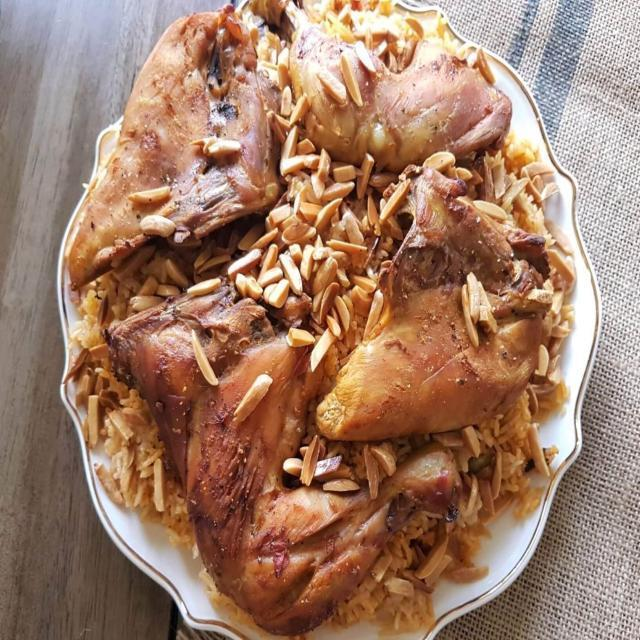kabsa: (97, 2, 546, 621)
